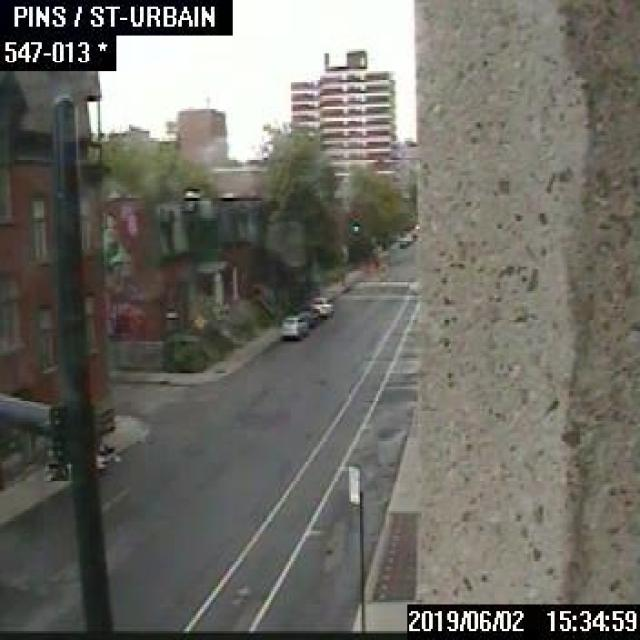vehicle: (279, 314, 307, 338), (309, 294, 333, 317), (292, 305, 318, 326)
